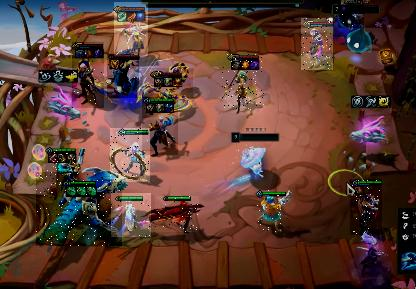1_aurelionsol: (107, 54, 139, 98), (338, 0, 364, 28)
1_leesin: (142, 97, 178, 155)
1_senna: (155, 196, 199, 232)
1_soraka: (111, 193, 151, 237)
2_aoshin: (36, 172, 122, 246)
2_aphelios: (350, 179, 382, 235)
2_graves: (45, 148, 79, 182)
2_qiyana: (110, 128, 150, 182)
2_zeri: (256, 190, 288, 232)
3_lux: (114, 2, 148, 56)
3_nidalee: (222, 54, 264, 110)
3_skarner: (141, 68, 193, 98)
3_varus: (301, 18, 333, 70)
3_vladimir: (72, 42, 104, 108)
